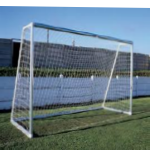goals: (10, 20, 135, 140)
